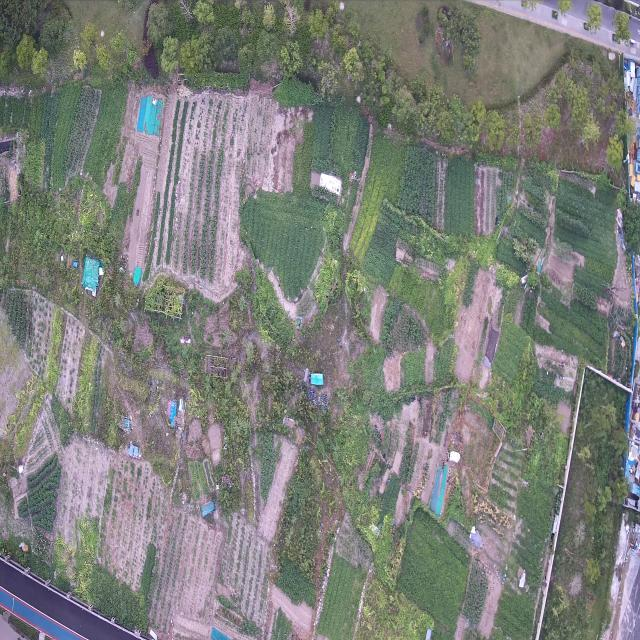UAV: (298, 364, 313, 386)
